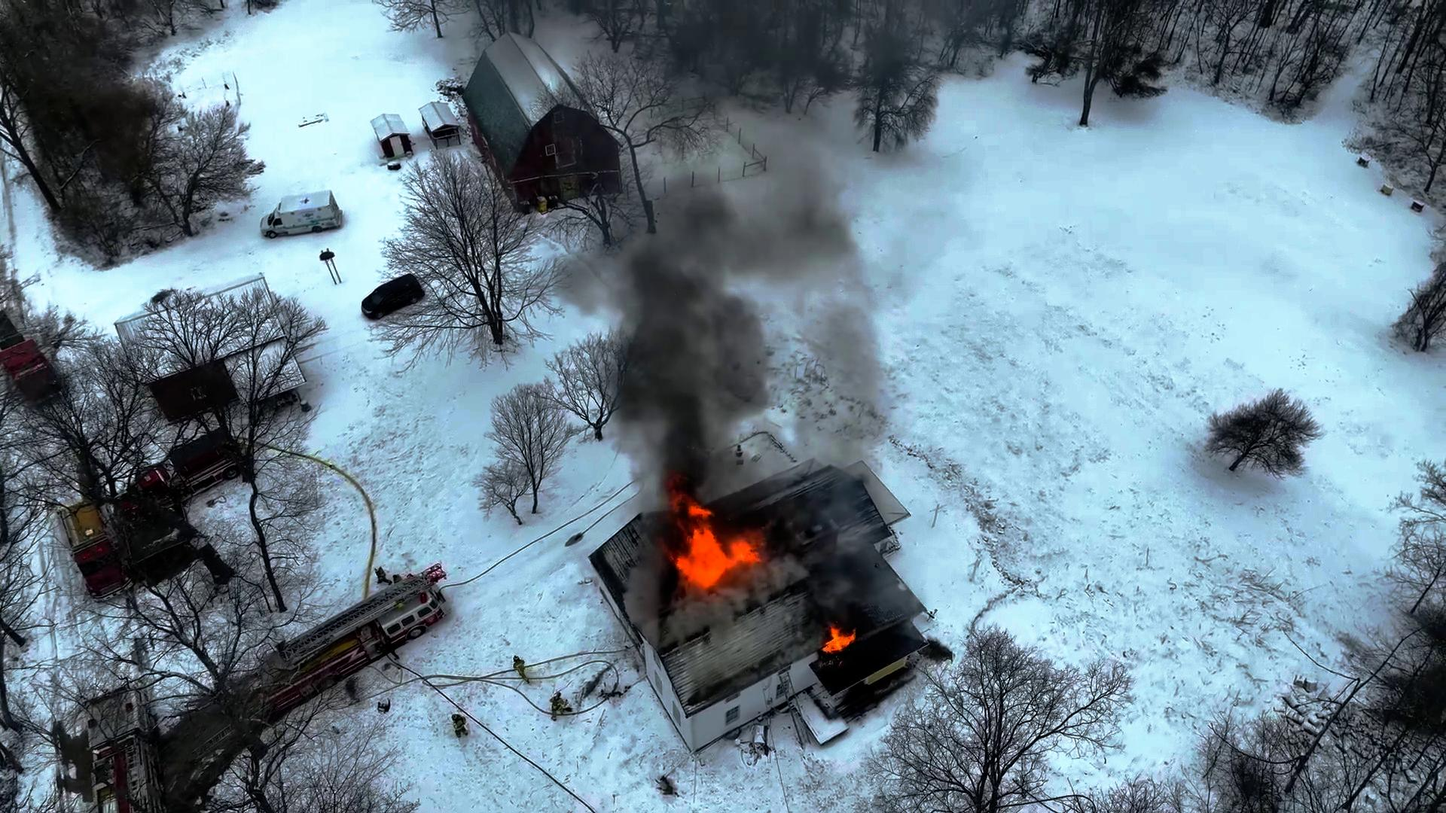fire: (659, 484, 752, 587), (816, 625, 855, 657)
smoke: (656, 281, 763, 448)
